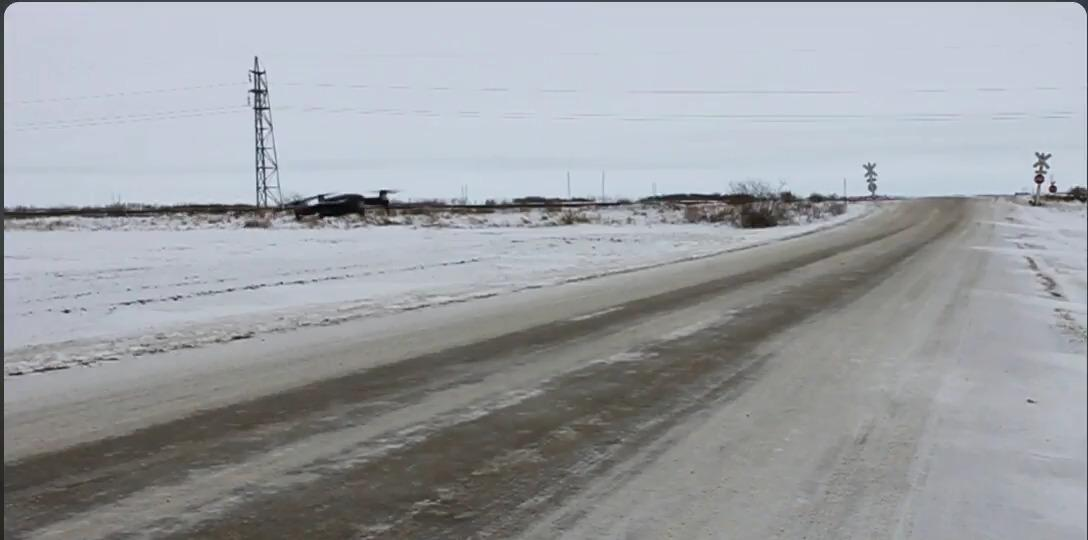dr: (280, 187, 402, 223)
